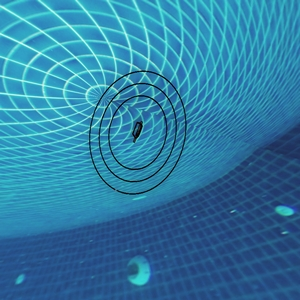circle: (82, 63, 197, 206)
submarine: (135, 122, 146, 136)
